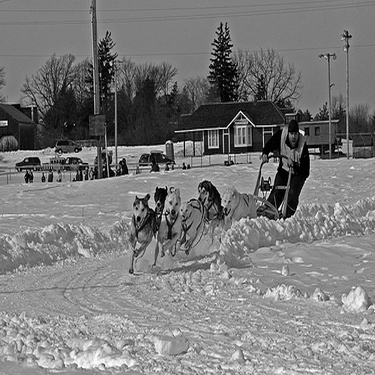dog: (125, 192, 158, 279), (198, 177, 228, 239), (161, 183, 183, 267), (222, 183, 259, 228), (176, 198, 206, 252), (153, 185, 169, 235), (255, 169, 274, 197)
